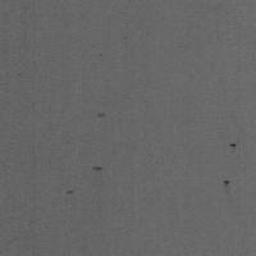Inclusion: (93, 166, 102, 171)
